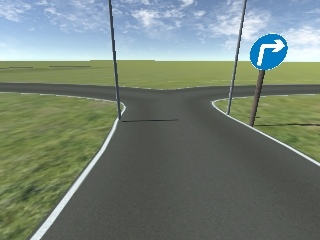right: (250, 34, 286, 68)
